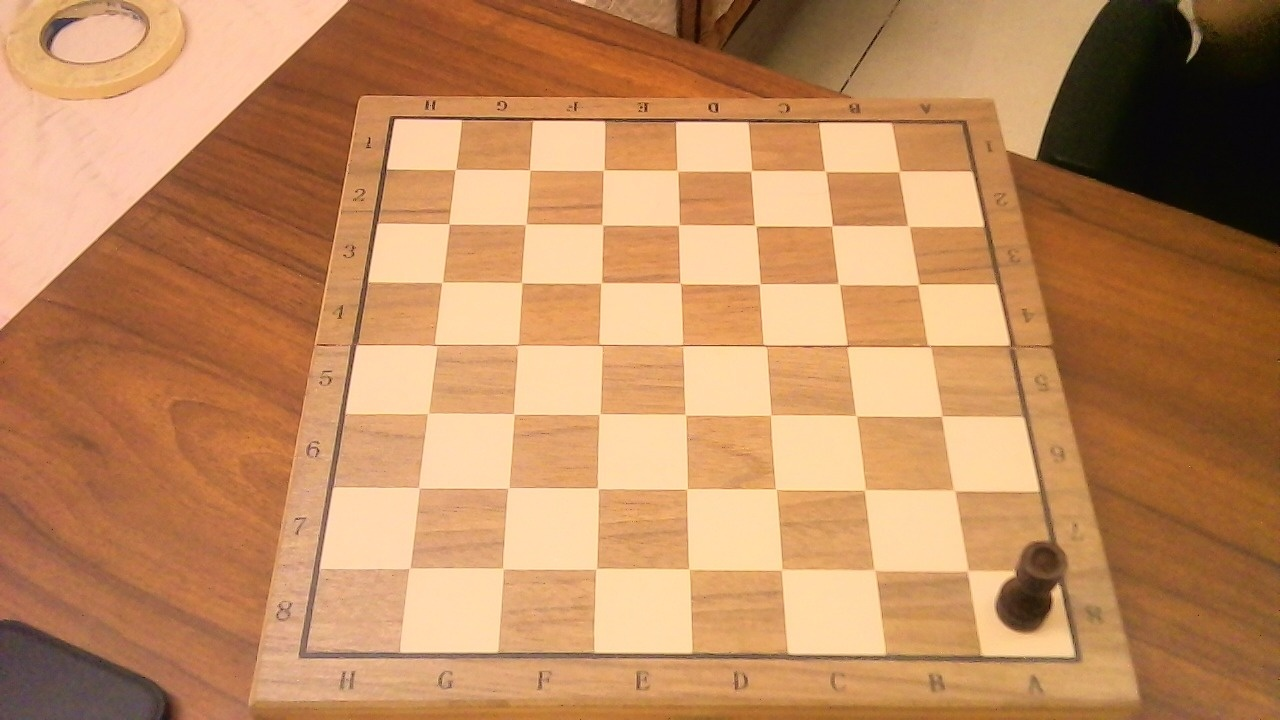r: (990, 527, 1076, 638)
